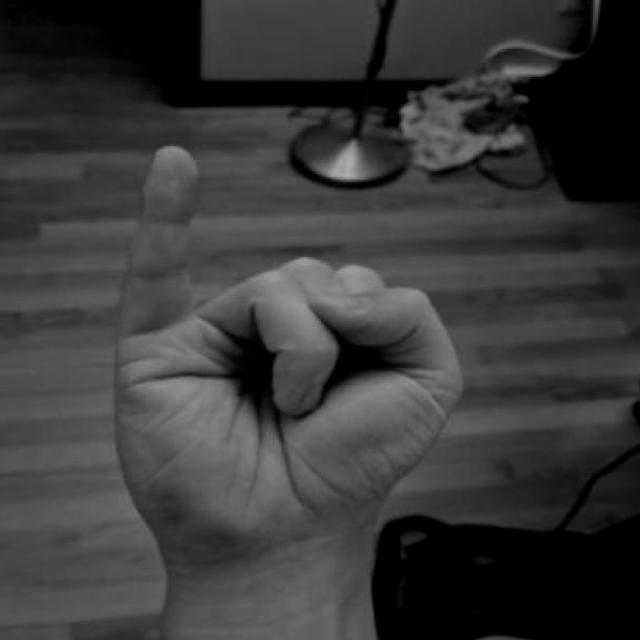I: (107, 136, 478, 599)
